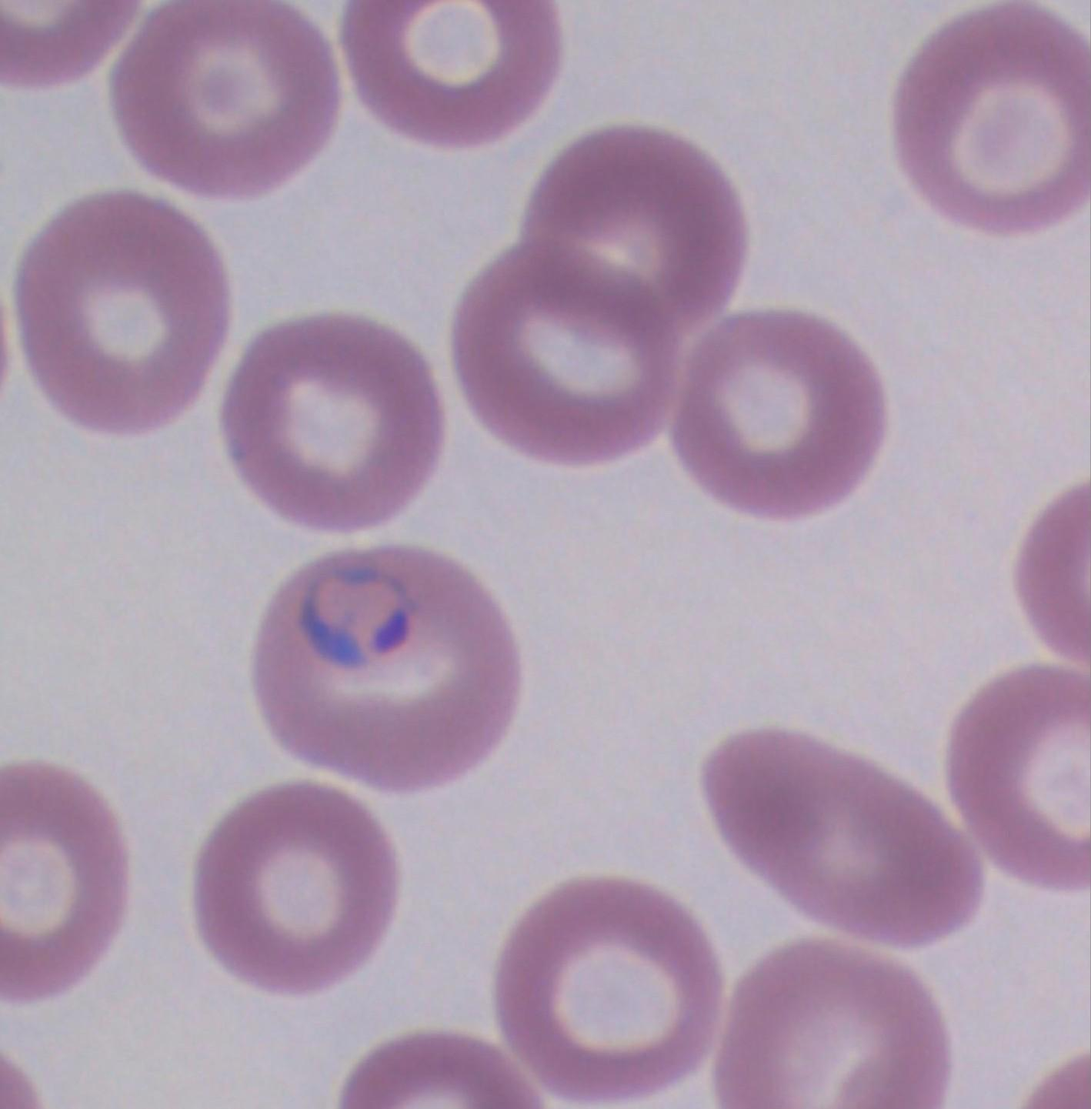Infected: (249, 550, 529, 794)
Uninfected: (700, 727, 982, 945), (13, 188, 233, 440), (495, 876, 724, 1100), (449, 250, 685, 467), (223, 316, 445, 534), (187, 778, 401, 999), (113, 0, 346, 202), (526, 127, 753, 329), (892, 1, 1091, 231), (672, 309, 888, 517), (716, 947, 948, 1109), (941, 665, 1091, 898), (0, 763, 134, 998), (344, 0, 562, 144)
